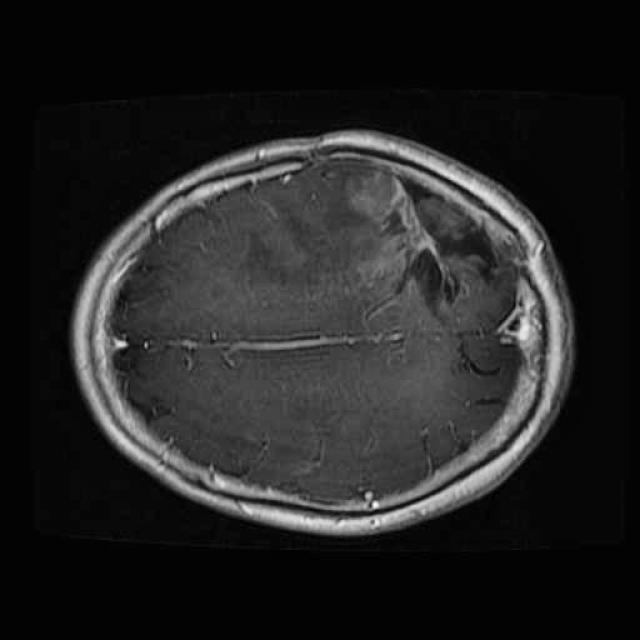Tumor: (346, 149, 520, 333)
